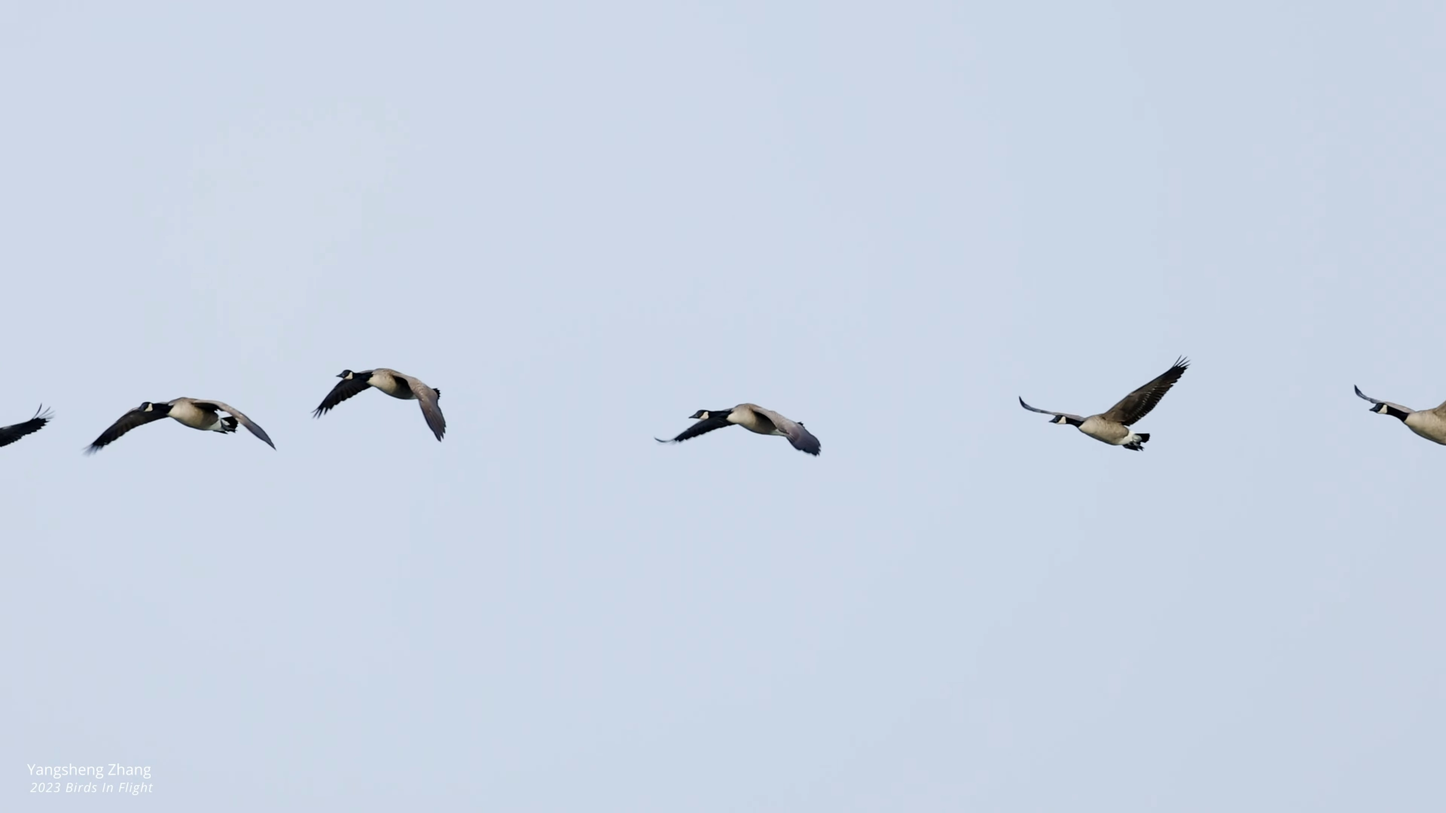not_drone: (1015, 350, 1195, 456), (79, 389, 279, 461), (309, 364, 451, 445), (653, 398, 824, 461)
